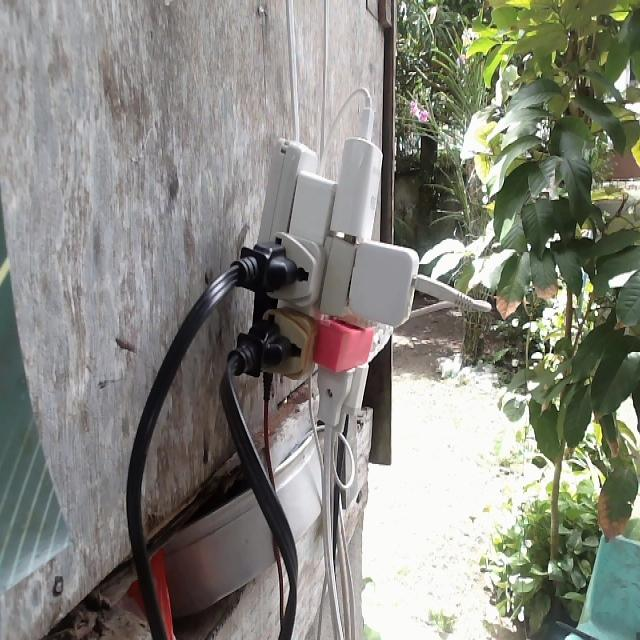-: (234, 109, 417, 420)
